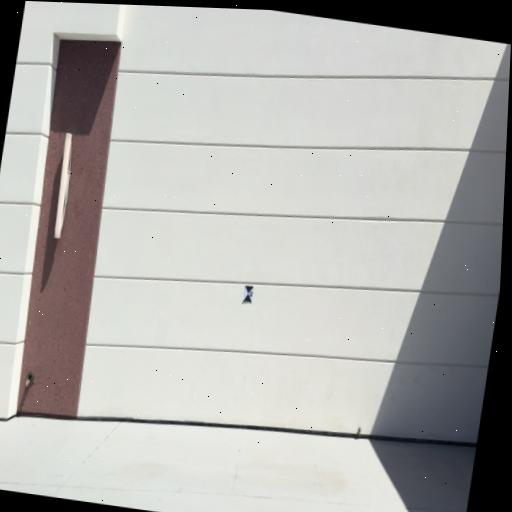target0: (242, 285, 255, 305)
